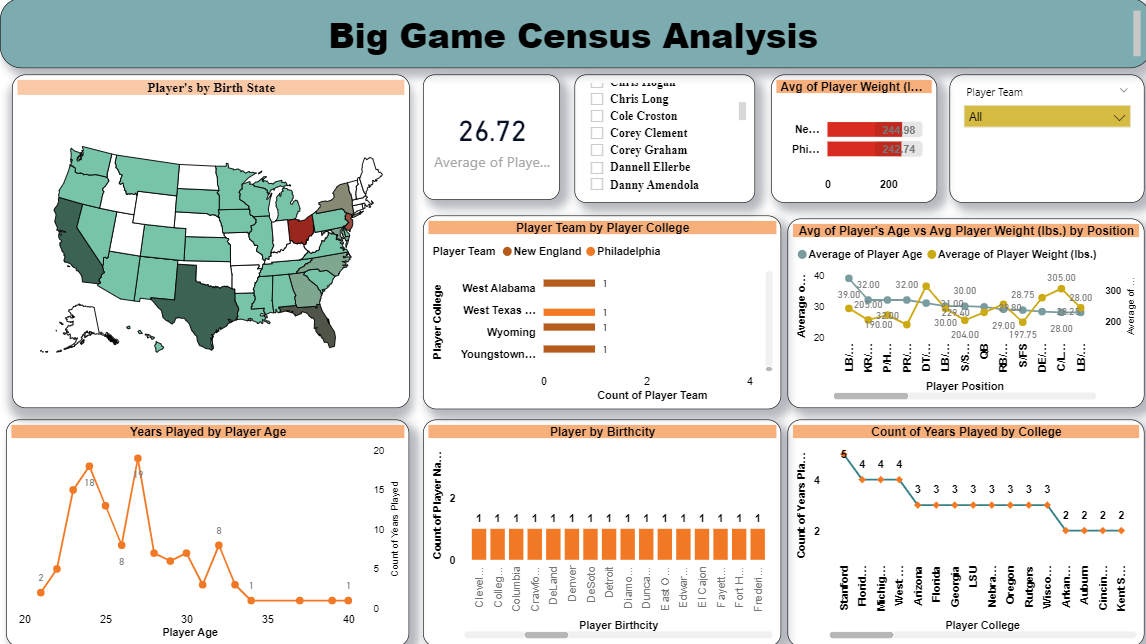

The page's visual inventory and layout, read from the dashboard file:
{"tool":"powerbi","page":{"name":"Page 1","canvas":[1280,720],"ordinal":0},"visuals":[{"type":"textbox","box":[0,0,1279.5,77.9],"z":0},{"type":"shapeMap","title":"Player''s by Birth State","fields":{"Category":["Big Game Census data (revised).Player Birth State"],"Value":["Big Game Census data (revised).Player Name"]},"box":[12.9,85.8,441.7,370.5],"z":1000},{"type":"clusteredBarChart","title":"Player Team by Player College","fields":{"Category":["Big Game Census data (revised).Player College","Big Game Census data (revised).Player Team"],"Y":["Big Game Census data (revised).Player Team"],"Series":["Big Game Census data (revised).Player Team"]},"box":[469.2,241.1,398,215.2],"z":2000},{"type":"lineChart","title":"Avg of Player''s Age vs Avg Player Weight (lbs.) by Position","fields":{"Category":["Big Game Census data (revised).Player Position"],"Y":["Big Game Census data (revised).Player Age"],"Y2":["Big Game Census data (revised).Player Weight (lbs.)"]},"box":[875.3,244.3,396.4,210.3],"z":3000},{"type":"lineChart","title":"Years Played by Player Age","fields":{"Category":["Big Game Census data (revised).Player Age"],"Y2":["Big Game Census data (revised).Years Played"]},"box":[6.5,467.6,448.2,252.4],"z":4000},{"type":"clusteredColumnChart","title":"Player by Birthcity","fields":{"Category":["Big Game Census data (revised).Player Birthcity"],"Y":["Big Game Census data (revised).Player Name"]},"box":[469.2,467.6,398,252.4],"z":5000},{"type":"slicer","fields":{"Values":["Big Game Census data (revised).Player Team"]},"box":[1054.9,85.8,216.8,142.4],"z":6000},{"type":"lineChart","title":"Count of Years Played by College","fields":{"Category":["Big Game Census data (revised).Player College"],"Y":["Big Game Census data (revised).Years Played"]},"box":[875.3,467.6,396.4,252.4],"z":7000},{"type":"barChart","title":"Avg of Player Weight (lbs.) by Player Team","fields":{"Category":["Big Game Census data (revised).Player Team"],"Y":["Big Game Census data (revised).Player Weight (lbs.)"]},"box":[855.9,85.8,184.4,142.4],"z":8000},{"type":"slicer","fields":{"Values":["Big Game Census data (revised).Player Name"]},"box":[639.1,85.8,200.6,142.4],"z":9000},{"type":"card","fields":{"Values":["Big Game Census data (revised).Player Age"]},"box":[469.2,85.8,152.1,139.1],"z":10000}]}

Visuals, with their boxes in screenshot pixels (x1, y1, x2, y2), scaled from the page's 1280x720 canvas onto the 1146x644 screenshot:
textbox: <region>0, 0, 1145, 70</region>
"Player''s by Birth State" shapeMap: <region>12, 77, 407, 408</region>
"Player Team by Player College" clusteredBarChart: <region>420, 216, 776, 408</region>
"Avg of Player''s Age vs Avg Player Weight (lbs.) by Position" lineChart: <region>784, 219, 1139, 407</region>
"Years Played by Player Age" lineChart: <region>6, 418, 407, 643</region>
"Player by Birthcity" clusteredColumnChart: <region>420, 418, 776, 643</region>
slicer - Big Game Census data (revised).Player Team: <region>944, 77, 1139, 204</region>
"Count of Years Played by College" lineChart: <region>784, 418, 1139, 643</region>
"Avg of Player Weight (lbs.) by Player Team" barChart: <region>766, 77, 931, 204</region>
slicer - Big Game Census data (revised).Player Name: <region>572, 77, 752, 204</region>
card - Big Game Census data (revised).Player Age: <region>420, 77, 556, 201</region>
